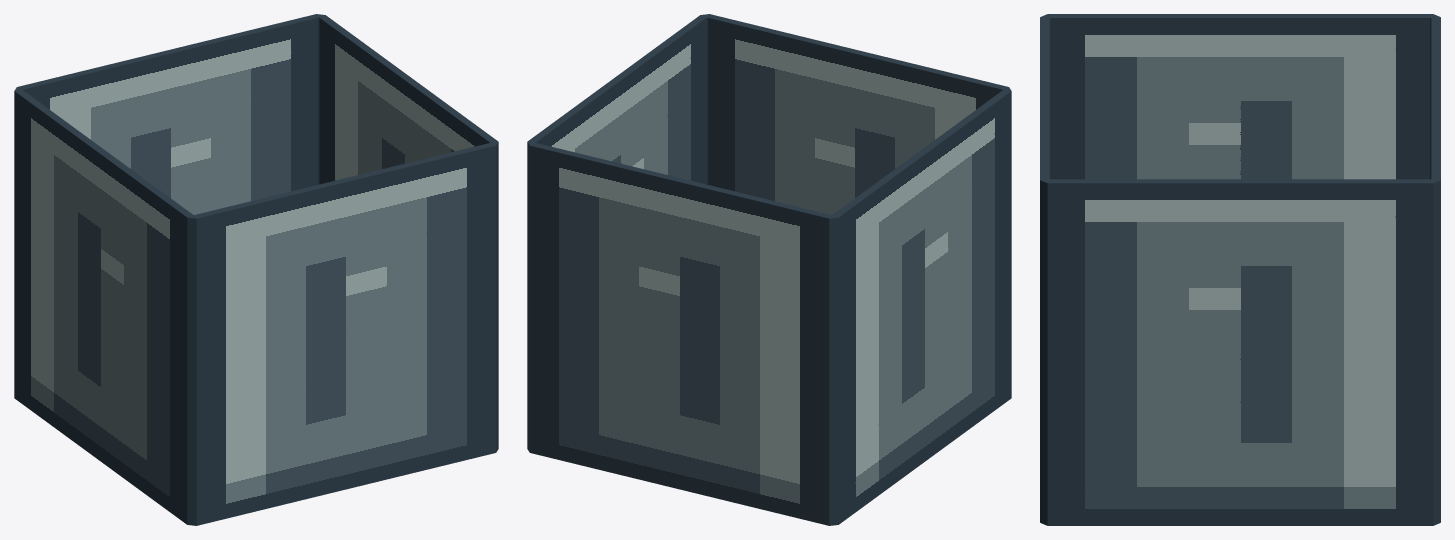
Rendered from wear.gltf.
3 renders of one model, left to right at view 1: azimuth 30°, elevation 25°; view 2: azimuth 150°, elevation 25°; view 3: azimuth 270°, elevation 25°, orthographic. The views are drawn at different scales.
Visible parts, largest first — view 1: Armor_Metal_Cylinder.049; view 2: Armor_Metal_Cylinder.049; view 3: Armor_Metal_Cylinder.049.
Part boxes in pixels (x1,y1,x2,y2): Armor_Metal_Cylinder.049: [14, 14, 498, 525]; Armor_Metal_Cylinder.049: [527, 14, 1011, 525]; Armor_Metal_Cylinder.049: [1040, 14, 1440, 525].
Bounding box in the file's own units: 2.12 × 2 × 2.12.
Materials: 1 (1 with a texture image).
